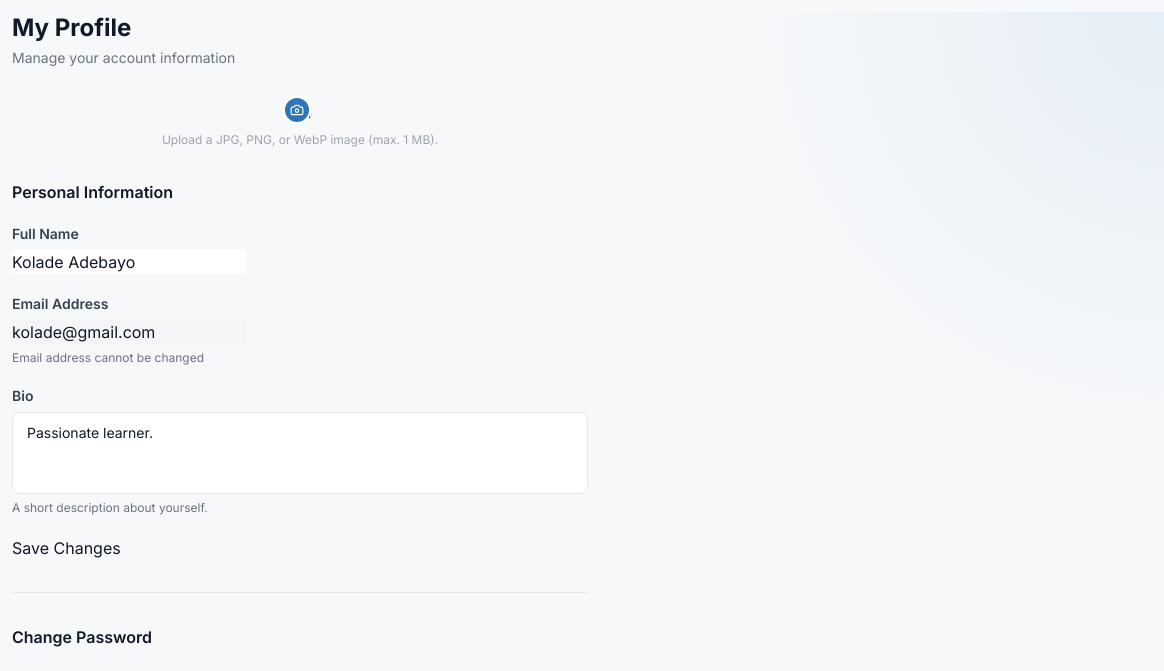
Test: ProfilePage › shows success alert after saving changes
Expected: the field showing "Kolade Adebayo" is shown, [12,250,246,274]
Click the button "Save Changes": click(66, 548) [12,536,121,560]
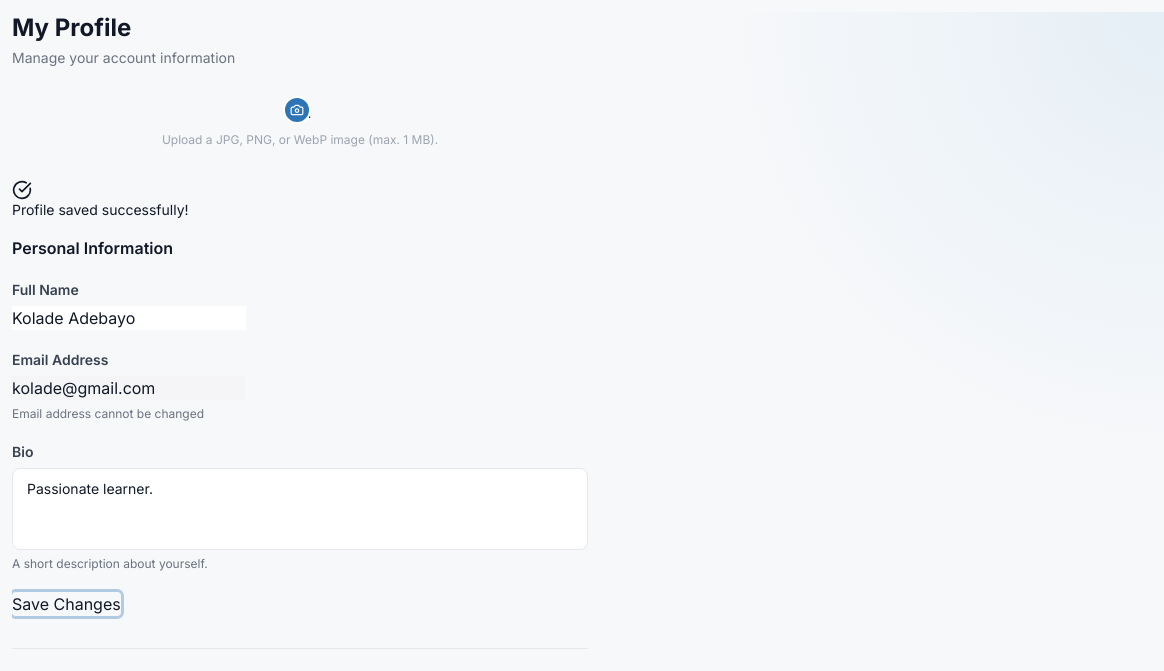
Now the message shows "Profile saved successfully", box [12,201,189,218]
